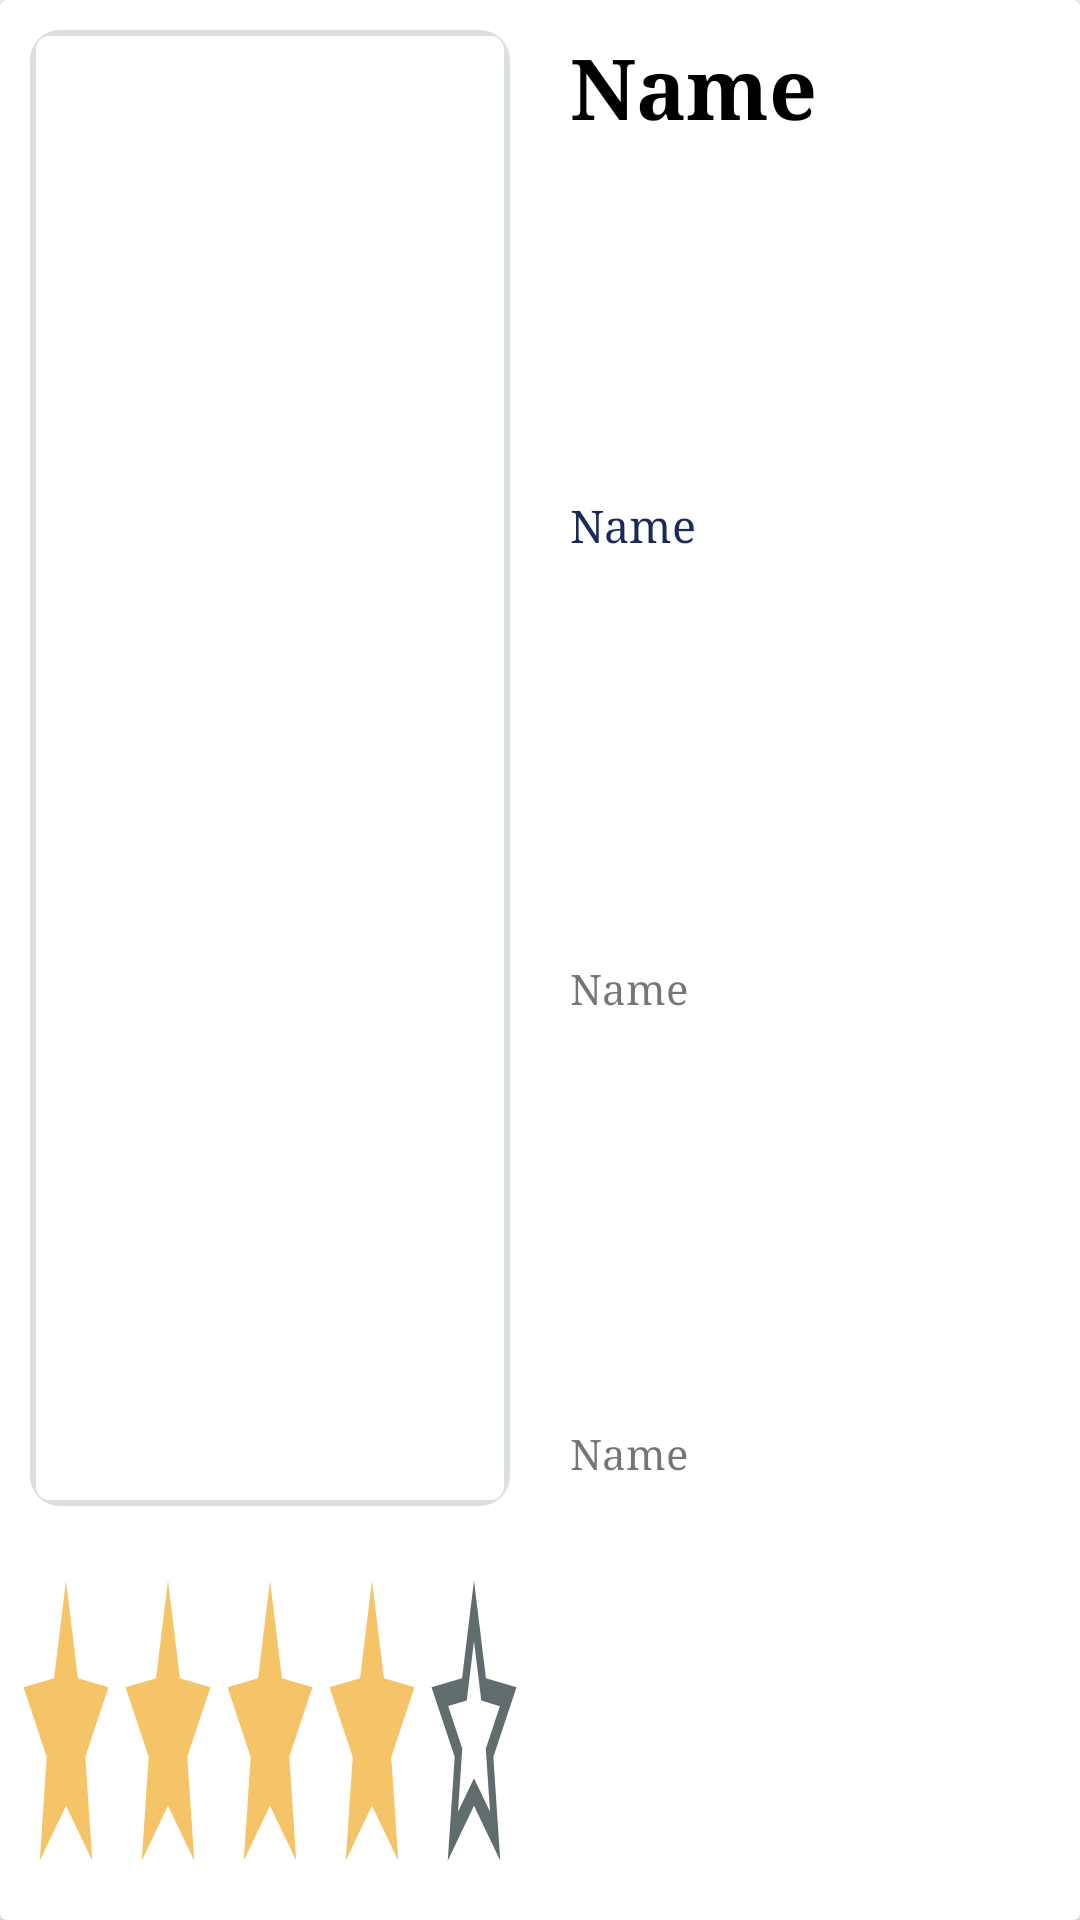

Where icons sit on this 1080 × 1920 app screen, as (x1, y1, x2, y2):
colorstar: (23, 1582, 109, 1860), (125, 1582, 211, 1860), (227, 1582, 313, 1860), (329, 1582, 415, 1860)
star border: (431, 1582, 517, 1860)
